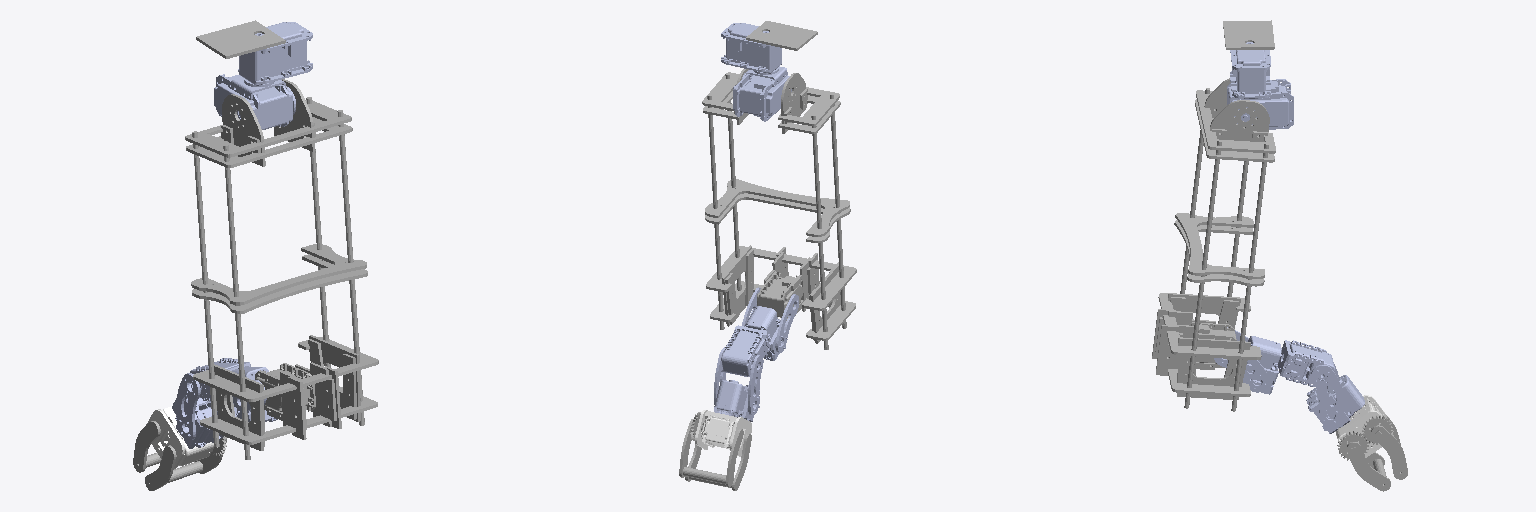
robot.urdf — manipulator:
<robot
  name="manipulator">
  <link
    name="base_link">
    <inertial>
      <origin
        xyz="-0.1537 0.0015 -0.095451"
        rpy="0 0 0" />
      <mass
        value="0.0092844" />
      <inertia
        ixx="1.9914E-06"
        ixy="7.0781E-24"
        ixz="5.3369E-08"
        iyy="5.0819E-06"
        iyz="-3.2416E-26"
        izz="3.1044E-06" />
    </inertial>
    <visual>
      <origin
        xyz="0 0 0"
        rpy="0 0 0" />
      <geometry>
        <mesh
          filename="package://qfy_dynamixel_description/manipulator/meshes/base_link.stl" />
      </geometry>
      <material
        name="">
        <color
          rgba="0.75294 0.75294 0.75294 1" />
      </material>
    </visual>
    <collision>
      <origin
        xyz="0 0 0"
        rpy="0 0 0" />
      <geometry>
        <mesh
          filename="package://qfy_dynamixel_description/manipulator/meshes/base_link.stl" />
      </geometry>
    </collision>
  </link>
  <link
    name="link64">
    <inertial>
      <origin
        xyz="7.2861E-10 -0.015203 0.00045227"
        rpy="0 0 0" />
      <mass
        value="0.072402" />
      <inertia
        ixx="2.9836E-05"
        ixy="-1.4995E-12"
        ixz="-2.2684E-13"
        iyy="1.6961E-05"
        iyz="-8.8059E-07"
        izz="2.4901E-05" />
    </inertial>
    <visual>
      <origin
        xyz="0 0 0"
        rpy="0 0 0" />
      <geometry>
        <mesh
          filename="package://qfy_dynamixel_description/manipulator/meshes/link64.stl" />
      </geometry>
      <material
        name="">
        <color
          rgba="0.79216 0.81961 0.93333 1" />
      </material>
    </visual>
    <collision>
      <origin
        xyz="0 0 0"
        rpy="0 0 0" />
      <geometry>
        <mesh
          filename="package://qfy_dynamixel_description/manipulator/meshes/link64.stl" />
      </geometry>
    </collision>
  </link>
  <joint
    name="joint_1"
    type="fixed">
    <origin
      xyz="-0.13349 0.096418 -0.0205"
      rpy="3.1416 -6.116E-17 -1.523" />
    <parent
      link="base_link" />
    <child
      link="link64" />
    <axis
      xyz="0 0 0" />
  </joint>
  <link
    name="link106">
    <inertial>
      <origin
        xyz="-0.023359 -0.0084976 0.00044644"
        rpy="0 0 0" />
      <mass
        value="0.089205" />
      <inertia
        ixx="4.2283E-05"
        ixy="-4.3725E-07"
        ixz="2.8185E-08"
        iyy="2.4813E-05"
        iyz="-1.0537E-06"
        izz="3.43E-05" />
    </inertial>
    <visual>
      <origin
        xyz="0 0 0"
        rpy="0 0 0" />
      <geometry>
        <mesh
          filename="package://qfy_dynamixel_description/manipulator/meshes/link106.stl" />
      </geometry>
      <material
        name="">
        <color
          rgba="0.79216 0.81961 0.93333 1" />
      </material>
    </visual>
    <collision>
      <origin
        xyz="0 0 0"
        rpy="0 0 0" />
      <geometry>
        <mesh
          filename="package://qfy_dynamixel_description/manipulator/meshes/link106.stl" />
      </geometry>
    </collision>
  </link>
  <joint
    name="joint_2"
    type="continuous">
    <origin
      xyz="0 0 0.023487"
      rpy="1.6186 1.5708 0" />
    <parent
      link="link64" />
    <child
      link="link106" />
    <axis
      xyz="1 0 0" />
  </joint>
  <link
    name="linkarm">
    <inertial>
      <origin
        xyz="-9.3227E-05 -0.07138 -0.17931"
        rpy="0 0 0" />
      <mass
        value="0.21403" />
      <inertia
        ixx="0.0024551"
        ixy="-1.1429E-07"
        ixz="1.548E-07"
        iyy="0.0024031"
        iyz="-0.0008166"
        izz="0.0008983" />
    </inertial>
    <visual>
      <origin
        xyz="0 0 0"
        rpy="0 0 0" />
      <geometry>
        <mesh
          filename="package://qfy_dynamixel_description/manipulator/meshes/linkarm.stl" />
      </geometry>
      <material
        name="">
        <color
          rgba="0.75294 0.75294 0.75294 1" />
      </material>
    </visual>
    <collision>
      <origin
        xyz="0 0 0"
        rpy="0 0 0" />
      <geometry>
        <mesh
          filename="package://qfy_dynamixel_description/manipulator/meshes/linkarm.stl" />
      </geometry>
    </collision>
  </link>
  <joint
    name="joint_3"
    type="continuous">
    <origin
      xyz="-0.024013 0.007 0"
      rpy="0.54369 1.5708 0" />
    <parent
      link="link106" />
    <child
      link="linkarm" />
    <axis
      xyz="1 0 0" />
  </joint>
  <link
    name="linkax4">
    <inertial>
      <origin
        xyz="0.03904 -0.0093585 -0.0005202"
        rpy="0 0 0" />
      <mass
        value="0.054636" />
      <inertia
        ixx="1.6969E-05"
        ixy="1.344E-06"
        ixz="1.4485E-07"
        iyy="1.7491E-05"
        iyz="-1.3924E-08"
        izz="1.9118E-05" />
    </inertial>
    <visual>
      <origin
        xyz="0 0 0"
        rpy="0 0 0" />
      <geometry>
        <mesh
          filename="package://qfy_dynamixel_description/manipulator/meshes/linkax4.stl" />
      </geometry>
      <material
        name="">
        <color
          rgba="0.79216 0.81961 0.93333 1" />
      </material>
    </visual>
    <collision>
      <origin
        xyz="0 0 0"
        rpy="0 0 0" />
      <geometry>
        <mesh
          filename="package://qfy_dynamixel_description/manipulator/meshes/linkax4.stl" />
      </geometry>
    </collision>
  </link>
  <joint
    name="joint_4"
    type="continuous">
    <origin
      xyz="0 -0.12202 -0.24053"
      rpy="1.5708 -0.2045 -1.5708" />
    <parent
      link="linkarm" />
    <child
      link="linkax4" />
    <axis
      xyz="0 0 -1" />
  </joint>
  <link
    name="linkax5">
    <inertial>
      <origin
        xyz="-3.2644E-05 0.039802 0.00049655"
        rpy="0 0 0" />
      <mass
        value="0.04395" />
      <inertia
        ixx="1.3927E-05"
        ixy="-9.0321E-09"
        ixz="1.4944E-09"
        iyy="6.8979E-06"
        iyz="1.497E-07"
        izz="1.2135E-05" />
    </inertial>
    <visual>
      <origin
        xyz="0 0 0"
        rpy="0 0 0" />
      <geometry>
        <mesh
          filename="package://qfy_dynamixel_description/manipulator/meshes/linkax5.stl" />
      </geometry>
      <material
        name="">
        <color
          rgba="0.79216 0.81961 0.93333 1" />
      </material>
    </visual>
    <collision>
      <origin
        xyz="0 0 0"
        rpy="0 0 0" />
      <geometry>
        <mesh
          filename="package://qfy_dynamixel_description/manipulator/meshes/linkax5.stl" />
      </geometry>
    </collision>
  </link>
  <joint
    name="joint_5"
    type="continuous">
    <origin
      xyz="0.048959 0.0047251 -0.0007"
      rpy="-3.1416 0.022658 1.5708" />
    <parent
      link="linkax4" />
    <child
      link="linkax5" />
    <axis
      xyz="0 1 0" />
  </joint>
  <link
    name="linkax6">
    <inertial>
      <origin
        xyz="0.03904 -0.0093585 0.022022"
        rpy="0 0 0" />
      <mass
        value="0.054636" />
      <inertia
        ixx="1.6599E-05"
        ixy="1.344E-06"
        ixz="-5.0169E-09"
        iyy="1.7121E-05"
        iyz="6.221E-09"
        izz="1.9118E-05" />
    </inertial>
    <visual>
      <origin
        xyz="0 0 0"
        rpy="0 0 0" />
      <geometry>
        <mesh
          filename="package://qfy_dynamixel_description/manipulator/meshes/linkax6.stl" />
      </geometry>
      <material
        name="">
        <color
          rgba="0.79216 0.81961 0.93333 1" />
      </material>
    </visual>
    <collision>
      <origin
        xyz="0 0 0"
        rpy="0 0 0" />
      <geometry>
        <mesh
          filename="package://qfy_dynamixel_description/manipulator/meshes/linkax6.stl" />
      </geometry>
    </collision>
  </link>
  <joint
    name="joint_6"
    type="revolute">
    <origin
      xyz="0 0.054882 0.024"
      rpy="-3.1416 -8.0318E-16 2.2118" />
    <parent
      link="linkax5" />
    <child
      link="linkax6" />
    <axis
      xyz="0 0 -1" />
    <limit
      effort="0"
      velocity="0" />
  </joint>
  <link
    name="linkax7">
    <inertial>
      <origin
        xyz="-0.0080247 0.017921 8.8832E-05"
        rpy="0 0 0" />
      <mass
        value="0.05132" />
      <inertia
        ixx="1.1889E-05"
        ixy="4.1783E-07"
        ixz="6.9039E-07"
        iyy="1.7028E-05"
        iyz="6.9888E-08"
        izz="1.4001E-05" />
    </inertial>
    <visual>
      <origin
        xyz="0 0 0"
        rpy="0 0 0" />
      <geometry>
        <mesh
          filename="package://qfy_dynamixel_description/manipulator/meshes/linkax7.stl" />
      </geometry>
      <material
        name="">
        <color
          rgba="1 1 1 1" />
      </material>
    </visual>
    <collision>
      <origin
        xyz="0 0 0"
        rpy="0 0 0" />
      <geometry>
        <mesh
          filename="package://qfy_dynamixel_description/manipulator/meshes/linkax7.stl" />
      </geometry>
    </collision>
  </link>
  <joint
    name="joint_7"
    type="revolute">
    <origin
      xyz="0.062341 0.0047251 0.022"
      rpy="-3.1416 0.010138 1.5708" />
    <parent
      link="linkax6" />
    <child
      link="linkax7" />
    <axis
      xyz="0 1 0" />
    <limit
      effort="0"
      velocity="0" />
  </joint>
  <link
    name="finger1">
    <inertial>
      <origin
        xyz="-0.11529 -0.16646 -0.51473"
        rpy="0 0 0" />
      <mass
        value="0.012077" />
      <inertia
        ixx="1.0727E-05"
        ixy="1.757E-06"
        ixz="2.3135E-06"
        iyy="8.3865E-06"
        iyz="3.5869E-08"
        izz="6.2543E-06" />
    </inertial>
    <visual>
      <origin
        xyz="0 0 0"
        rpy="0 0 0" />
      <geometry>
        <mesh
          filename="package://qfy_dynamixel_description/manipulator/meshes/finger1.stl" />
      </geometry>
      <material
        name="">
        <color
          rgba="0.75294 0.75294 0.75294 1" />
      </material>
    </visual>
    <collision>
      <origin
        xyz="0 0 0"
        rpy="0 0 0" />
      <geometry>
        <mesh
          filename="package://qfy_dynamixel_description/manipulator/meshes/finger1.stl" />
      </geometry>
    </collision>
  </link>
  <joint
    name="joint_8"
    type="revolute">
    <origin
      xyz="-0.37077 -0.26103 -0.30674"
      rpy="-2.1071 -0.50791 2.9917" />
    <parent
      link="linkax7" />
    <child
      link="finger1" />
    <axis
      xyz="0.48635 -0.7511 -0.44645" />
    <limit
      effort="0"
      velocity="0" />
  </joint>
  <link
    name="finger2">
    <inertial>
      <origin
        xyz="-0.14579 -0.18091 -0.52363"
        rpy="0 0 0" />
      <mass
        value="0.012077" />
      <inertia
        ixx="1.088E-05"
        ixy="1.8821E-06"
        ixz="1.9944E-06"
        iyy="8.4585E-06"
        iyz="-8.5868E-08"
        izz="6.0203E-06" />
    </inertial>
    <visual>
      <origin
        xyz="0 0 0"
        rpy="0 0 0" />
      <geometry>
        <mesh
          filename="package://qfy_dynamixel_description/manipulator/meshes/finger2.stl" />
      </geometry>
      <material
        name="">
        <color
          rgba="0.75294 0.75294 0.75294 1" />
      </material>
    </visual>
    <collision>
      <origin
        xyz="0 0 0"
        rpy="0 0 0" />
      <geometry>
        <mesh
          filename="package://qfy_dynamixel_description/manipulator/meshes/finger2.stl" />
      </geometry>
    </collision>
  </link>
  <joint
    name="joint_9"
    type="revolute">
    <origin
      xyz="-0.28855 -0.34309 -0.30674"
      rpy="-2.1071 -0.50791 -3.0361" />
    <parent
      link="linkax7" />
    <child
      link="finger2" />
    <axis
      xyz="0.48635 -0.7511 -0.44645" />
    <limit
      effort="0"
      velocity="0" />
  </joint>
</robot>

--- Facts derived from the render (not from the file) ---
Views: 3 orthographic renders of the robot side by side, from view 1: azimuth 30°, elevation 25°; view 2: azimuth 150°, elevation 25°; view 3: azimuth 270°, elevation 25°.
Model manipulator with 10 links and 9 joints (4 revolute, 4 continuous, 1 fixed), rooted at base_link, posed every joint at zero.
Links seen in each view (by area): view 1: linkarm, link64, link106, linkax6, base_link, finger1, linkax7, finger2; view 2: linkarm, link106, link64, linkax6, linkax4, linkax5, linkax7, finger2, base_link, finger1; view 3: linkarm, linkax6, link64, linkax5, linkax4, finger1, link106, base_link, finger2, linkax7.
Link boxes in pixels (x1,y1,x2,y2): linkarm: [185, 79, 378, 459]; link64: [238, 22, 312, 86]; link106: [214, 74, 295, 129]; linkax6: [172, 373, 223, 448]; base_link: [196, 20, 285, 58]; finger1: [145, 436, 226, 490]; linkax7: [146, 406, 213, 468]; finger2: [133, 421, 161, 472]; linkarm: [702, 69, 856, 349]; link106: [733, 66, 791, 121]; link64: [721, 23, 781, 74]; linkax6: [714, 347, 763, 421]; linkax4: [742, 287, 798, 360]; linkax5: [721, 325, 769, 376]; linkax7: [695, 410, 751, 456]; finger2: [679, 412, 743, 487]; base_link: [746, 21, 817, 50]; finger1: [685, 434, 751, 490]; linkarm: [1152, 78, 1275, 411]; linkax6: [1306, 349, 1364, 433]; link64: [1230, 42, 1270, 98]; linkax5: [1278, 340, 1334, 386]; linkax4: [1214, 327, 1281, 394]; finger1: [1337, 431, 1390, 491]; link106: [1227, 79, 1293, 129]; base_link: [1223, 20, 1274, 49]; finger2: [1362, 415, 1407, 479]; linkax7: [1335, 395, 1393, 457].
Size in the robot's own frame: 0.1522 by 0.2609 by 0.4964 metres.
Meshes: 10 distinct files referenced, 10 mesh visuals loaded (10 binary STL).